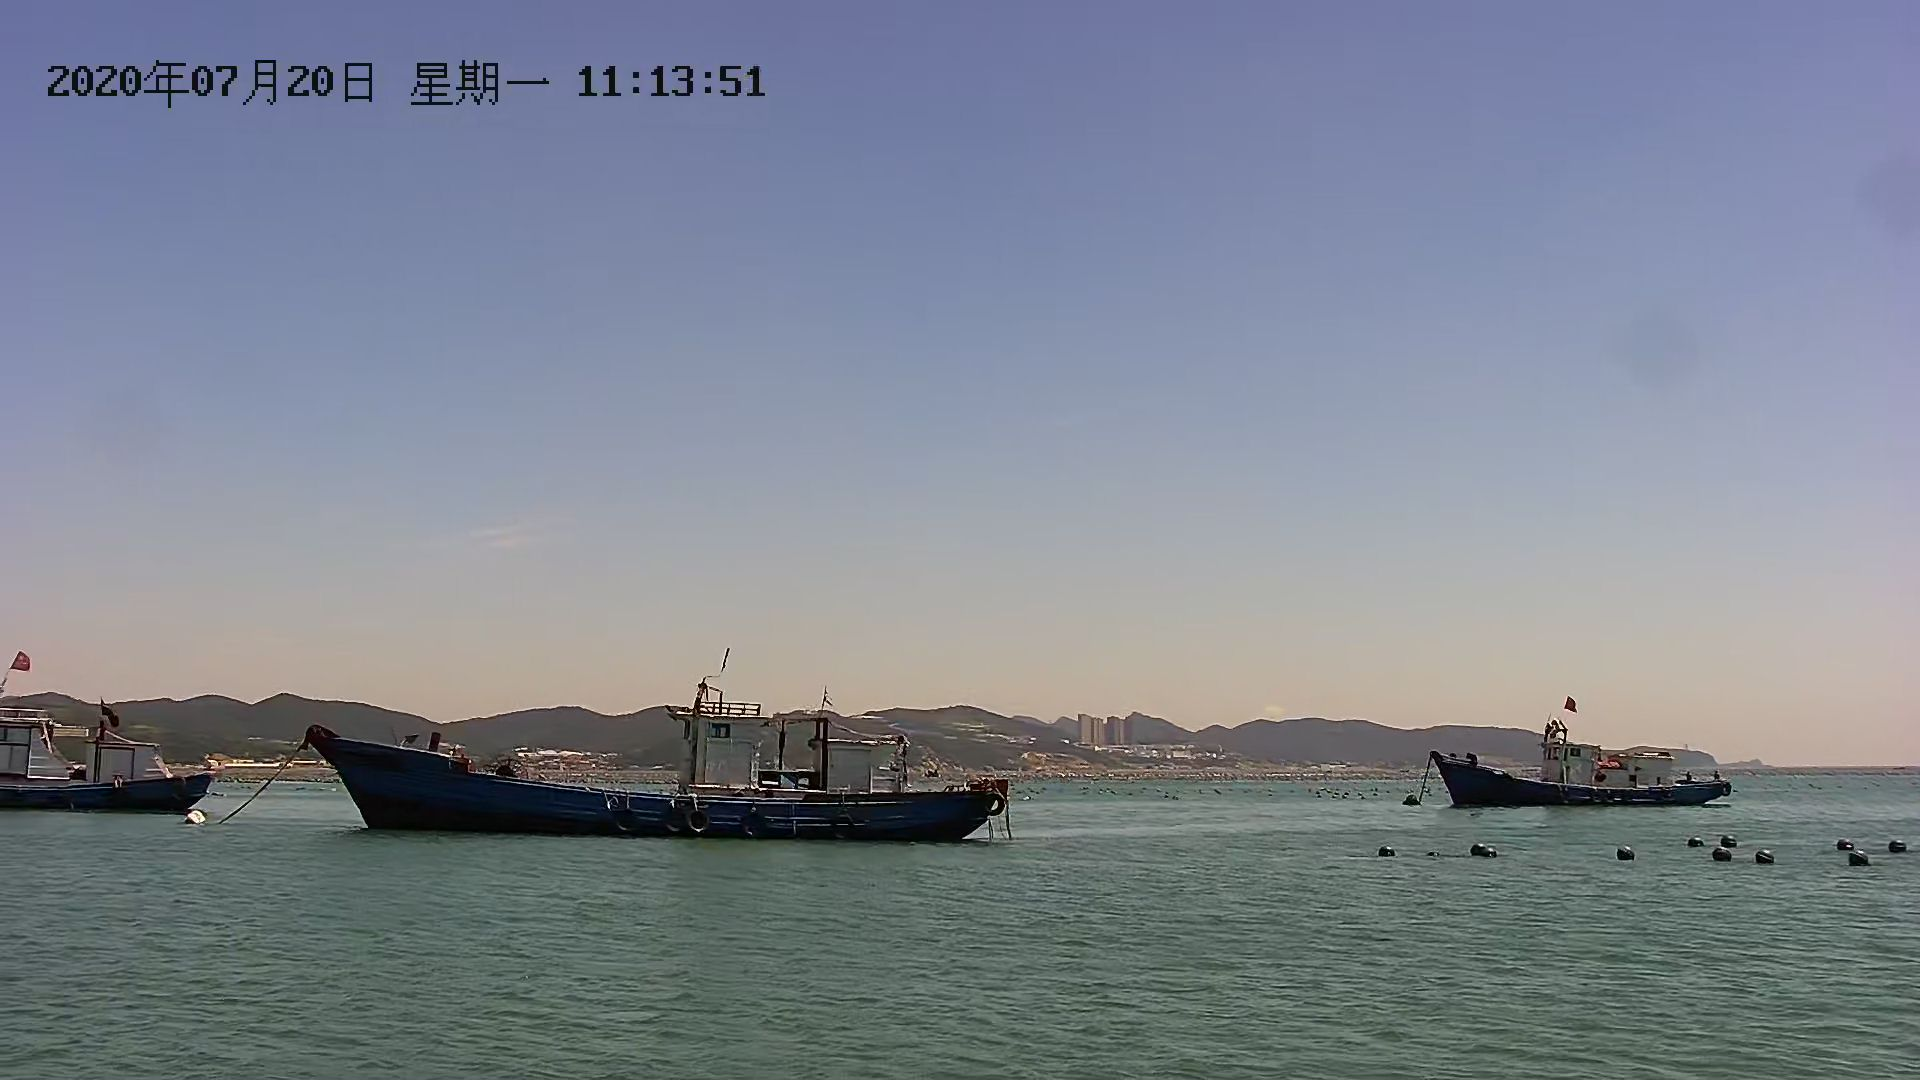ball: (1749, 844, 1791, 873), (1461, 836, 1505, 858), (1607, 840, 1644, 866), (1838, 847, 1876, 866), (1369, 840, 1399, 862), (1886, 835, 1913, 855), (1714, 843, 1735, 868)
ship: (295, 684, 1019, 851), (1415, 711, 1735, 810)
